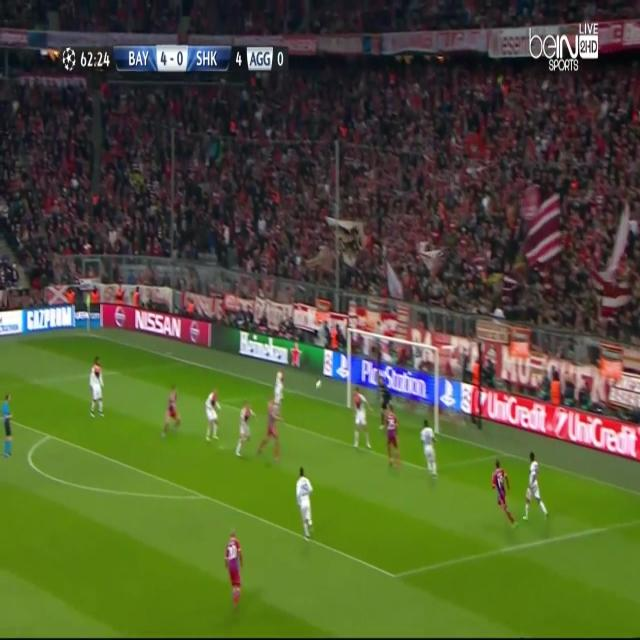Ball: (314, 374, 324, 391)
Goalkeeper: (377, 375, 392, 427)
Player: (490, 452, 520, 527), (524, 447, 552, 523), (291, 464, 318, 541), (256, 402, 286, 467), (223, 528, 246, 612), (352, 387, 374, 454), (160, 381, 183, 441), (235, 397, 256, 461), (87, 356, 107, 423), (420, 421, 440, 482), (385, 400, 403, 467), (202, 384, 222, 444), (272, 367, 288, 408)
Referee: (0, 389, 16, 464)
